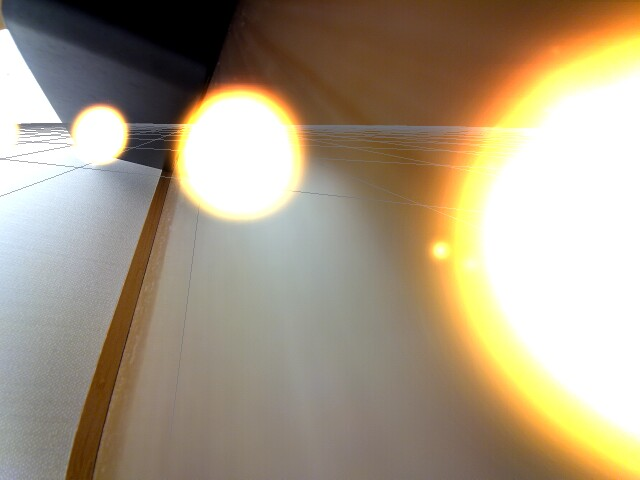firebig: (431, 18, 640, 480)
